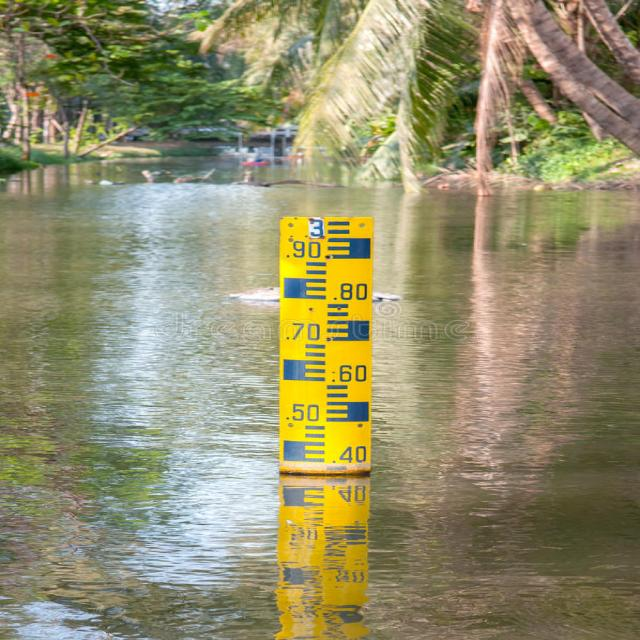ruler: (272, 208, 383, 476)
value: (280, 319, 326, 342), (325, 282, 372, 304), (279, 402, 326, 424), (326, 362, 372, 384), (327, 443, 370, 465), (283, 240, 325, 260), (306, 216, 326, 239)
